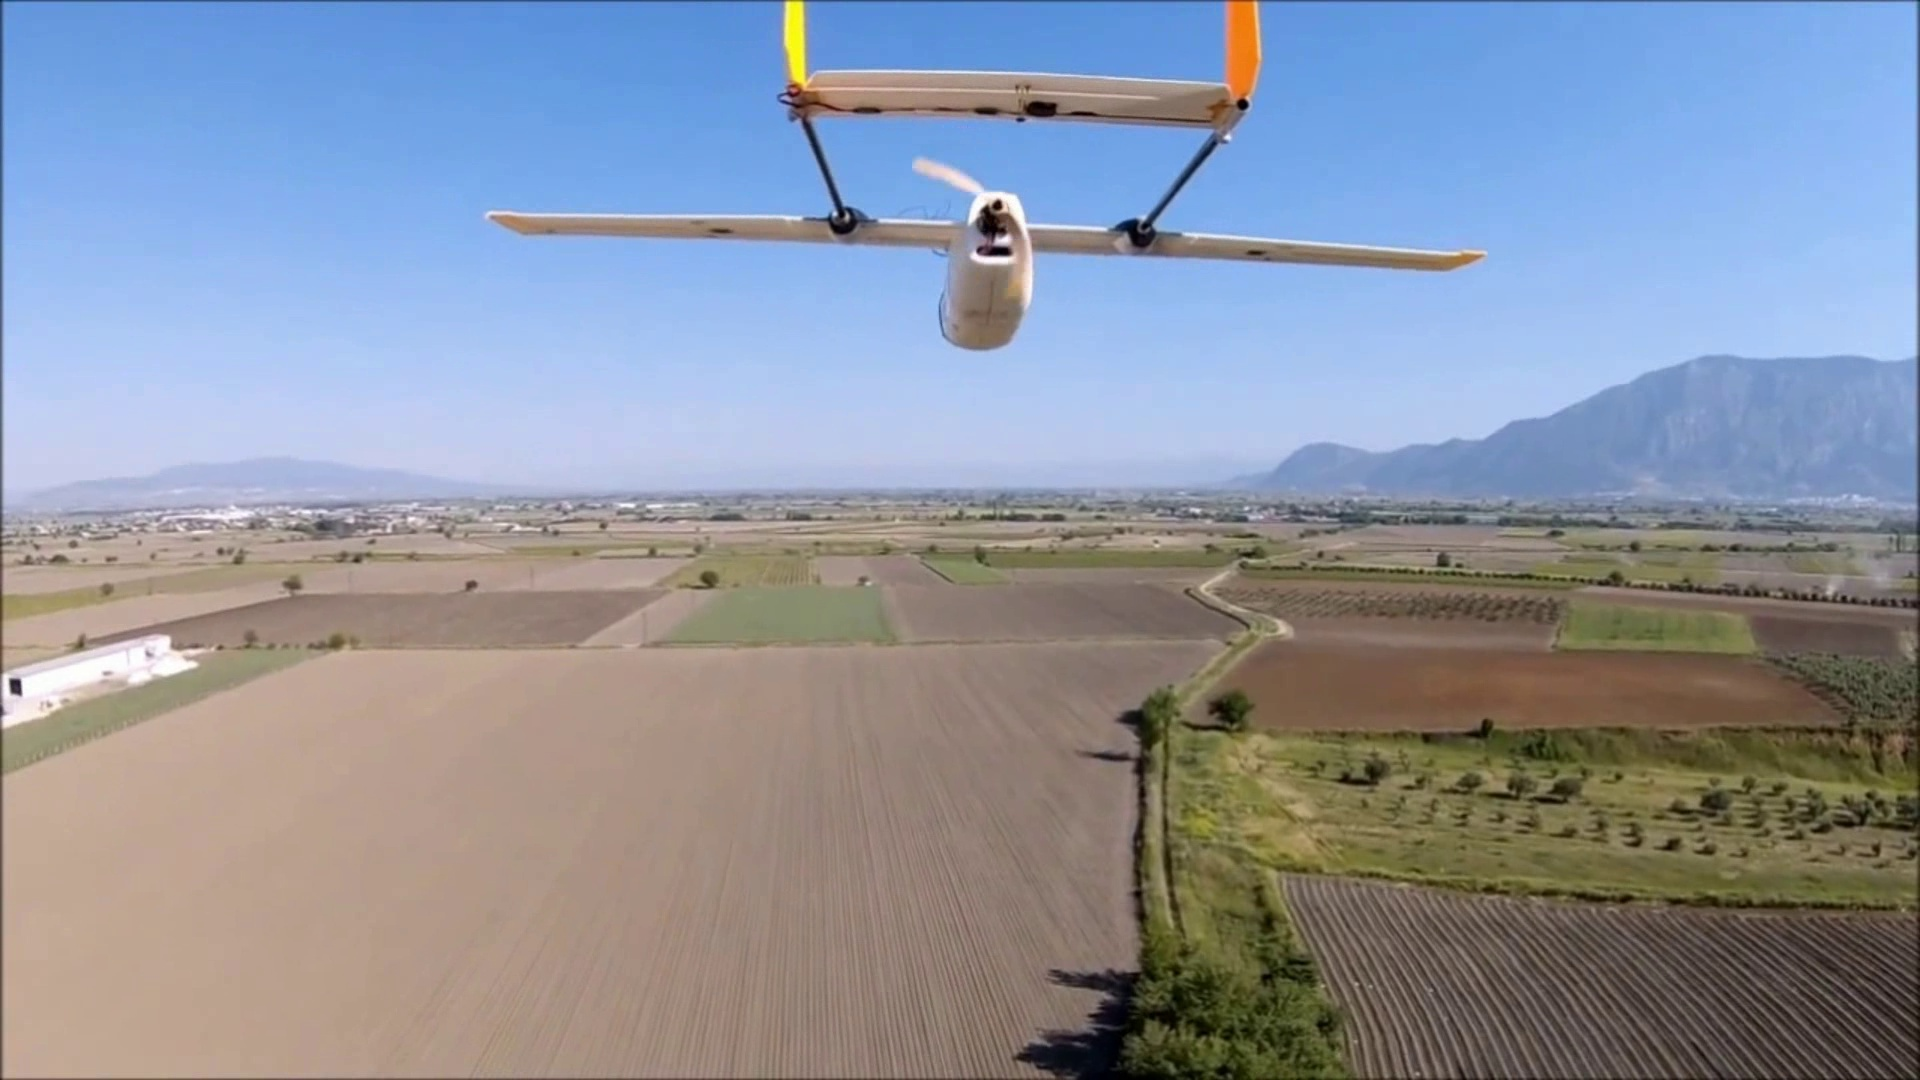airplane: (487, 4, 1485, 352)
